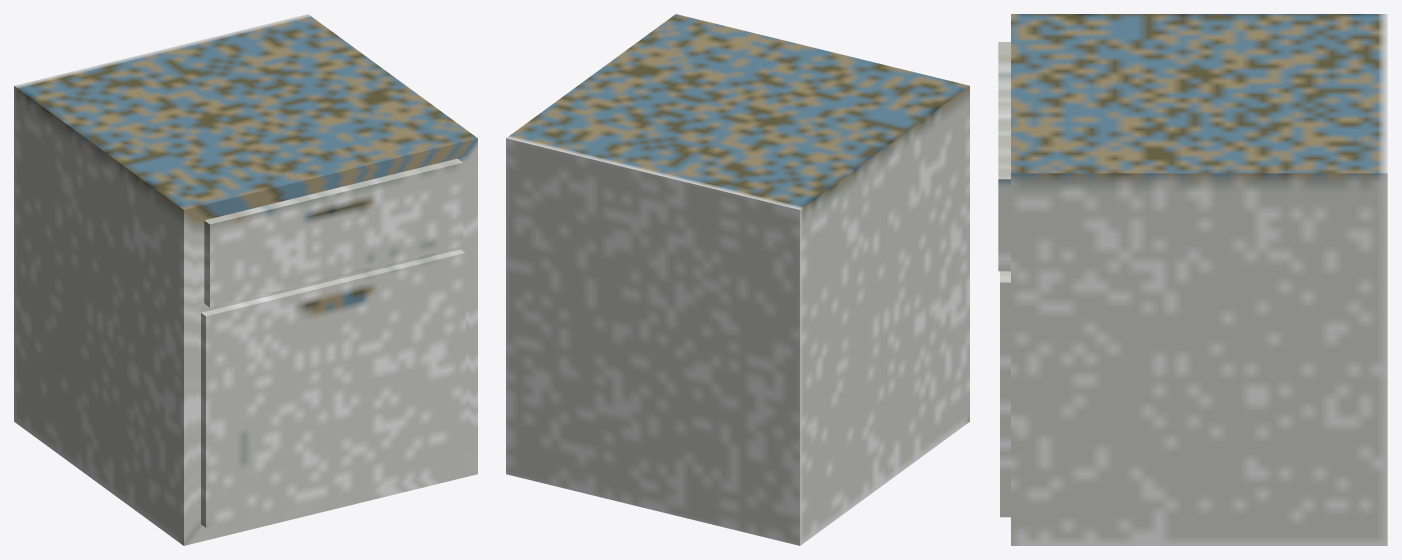
Rendered from tabletop.fbx.
3 renders of one model, left to right at view 1: azimuth 30°, elevation 25°; view 2: azimuth 150°, elevation 25°; view 3: azimuth 270°, elevation 25°, orthographic. The views are drawn at different scales.
Parts seen in each view (by area): view 1: Cube.003; view 2: Cube.003; view 3: Cube.003.
Part boxes in pixels (box(x1,y1,x2,y2)): Cube.003: box(14, 14, 477, 545); Cube.003: box(506, 14, 969, 545); Cube.003: box(998, 14, 1387, 545).
Size of the model in its own units: 84.45 by 92.22 by 87.24.
Materials: 1 (1 with a texture image).
